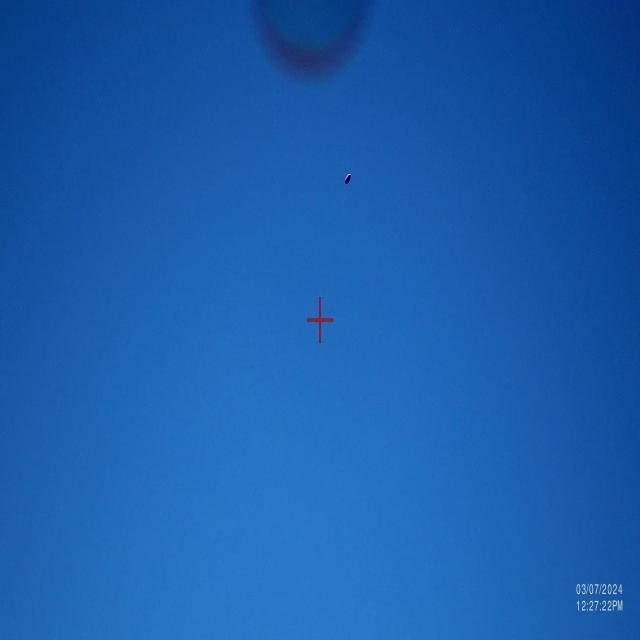entire: (336, 160, 356, 194)
